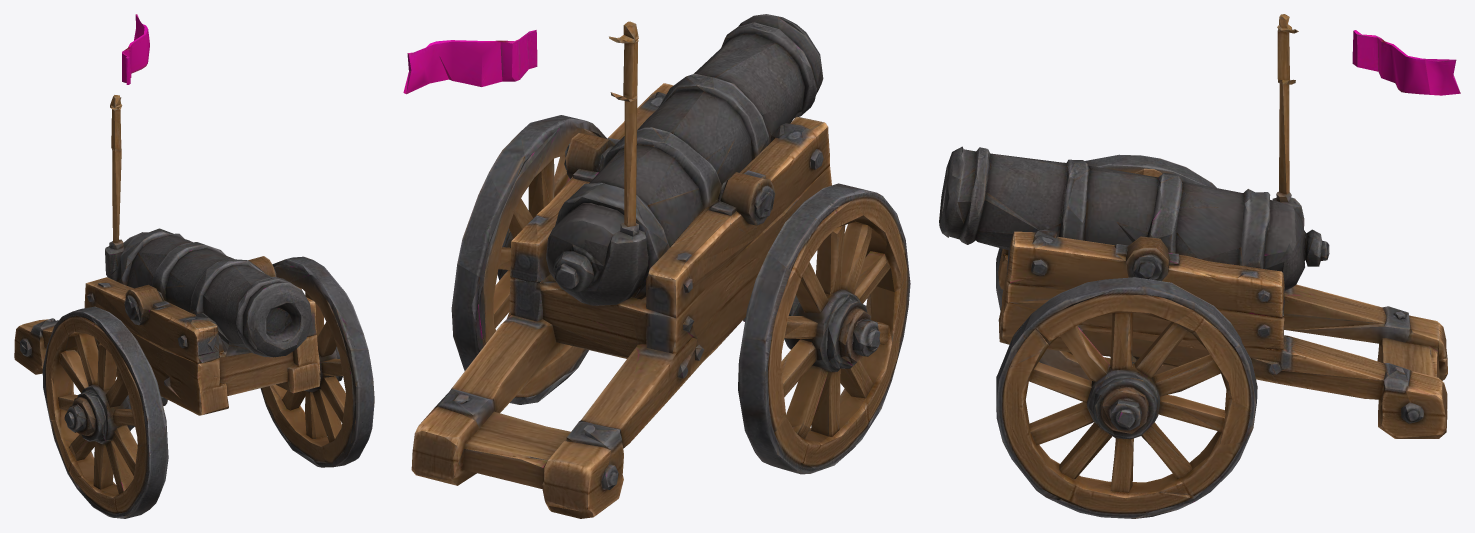
The model's file is cannon.glb.
3 views of the same model, side by side, from view 1: azimuth 30°, elevation 25°; view 2: azimuth 150°, elevation 25°; view 3: azimuth 270°, elevation 25° (orthographic). The views are drawn at different scales.
Parts seen in each view (by area): view 1: Mesh_0; view 2: Mesh_0; view 3: Mesh_0.
Boxes of the visible parts, bbox=[...] form: Mesh_0: bbox=[14, 14, 374, 518]; Mesh_0: bbox=[403, 14, 910, 518]; Mesh_0: bbox=[939, 14, 1460, 518].
Bounding box in the file's own units: 1.43 × 1.71 × 1.88.
Materials: 1 (1 with a texture image).
